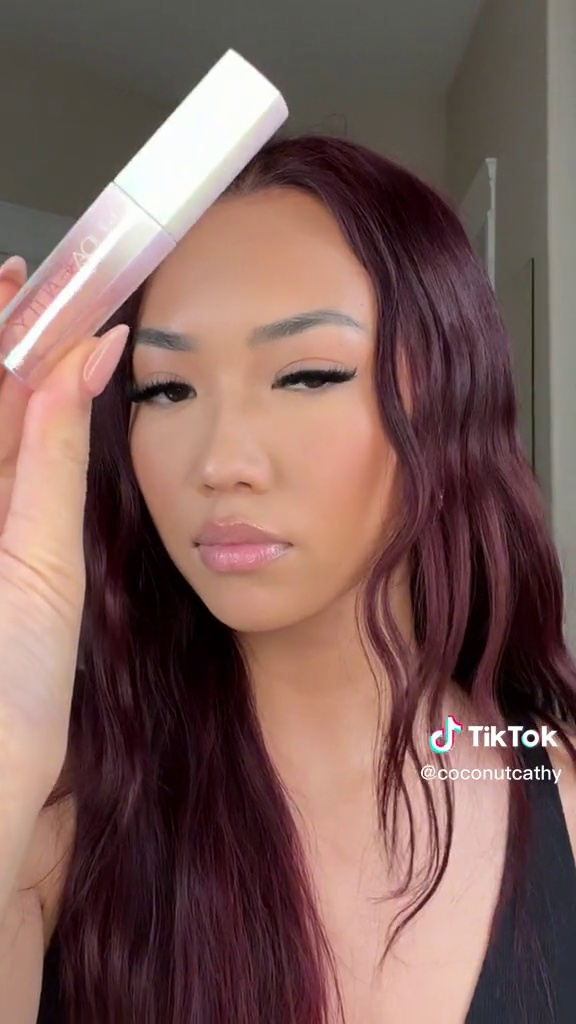train' :'yolo_data/train/images',: (1, 34, 296, 403)
